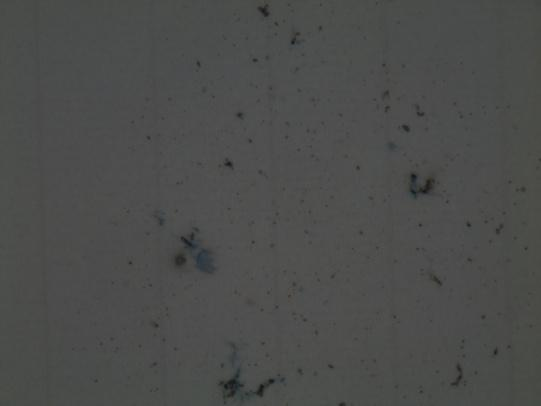PO CONTAMINATION: (76, 2, 541, 406)
